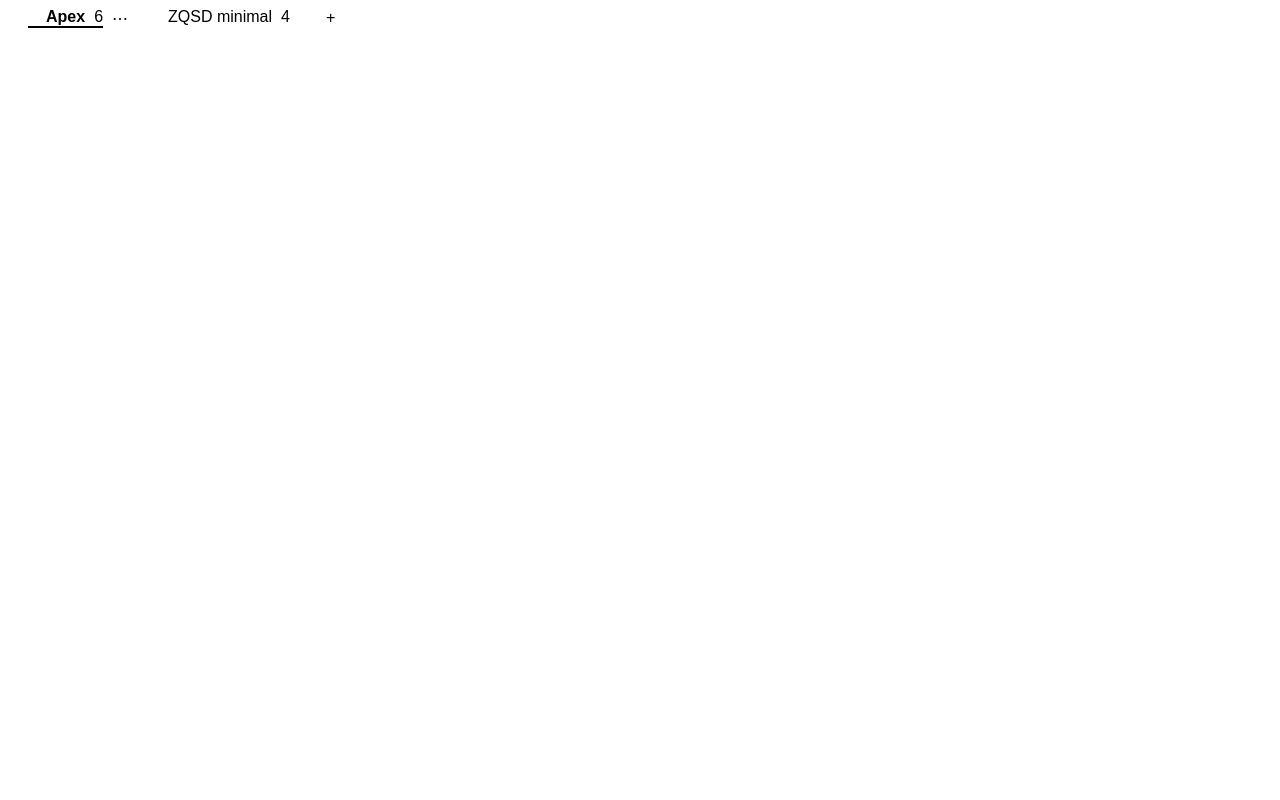
Test: renaming a profile › starts from the name it already has
What coordinates should you click on to do the following:
click the button "⋯"
I would click on:
 (124, 18)
Its box is [103, 8, 146, 28].
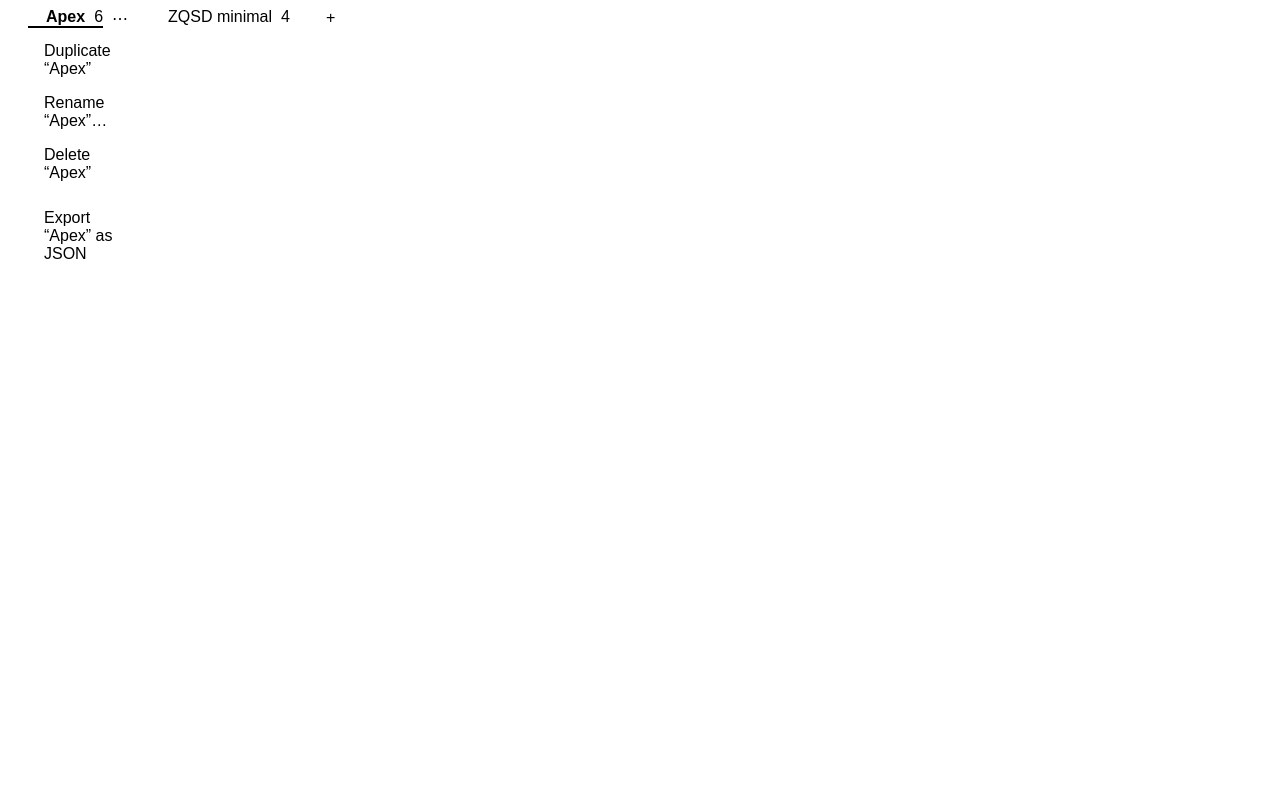
What coordinates should you click on to do the following:
click the button "Rename “Apex”…"
I would click on:
 (87, 112)
Its box is [34, 86, 140, 138].
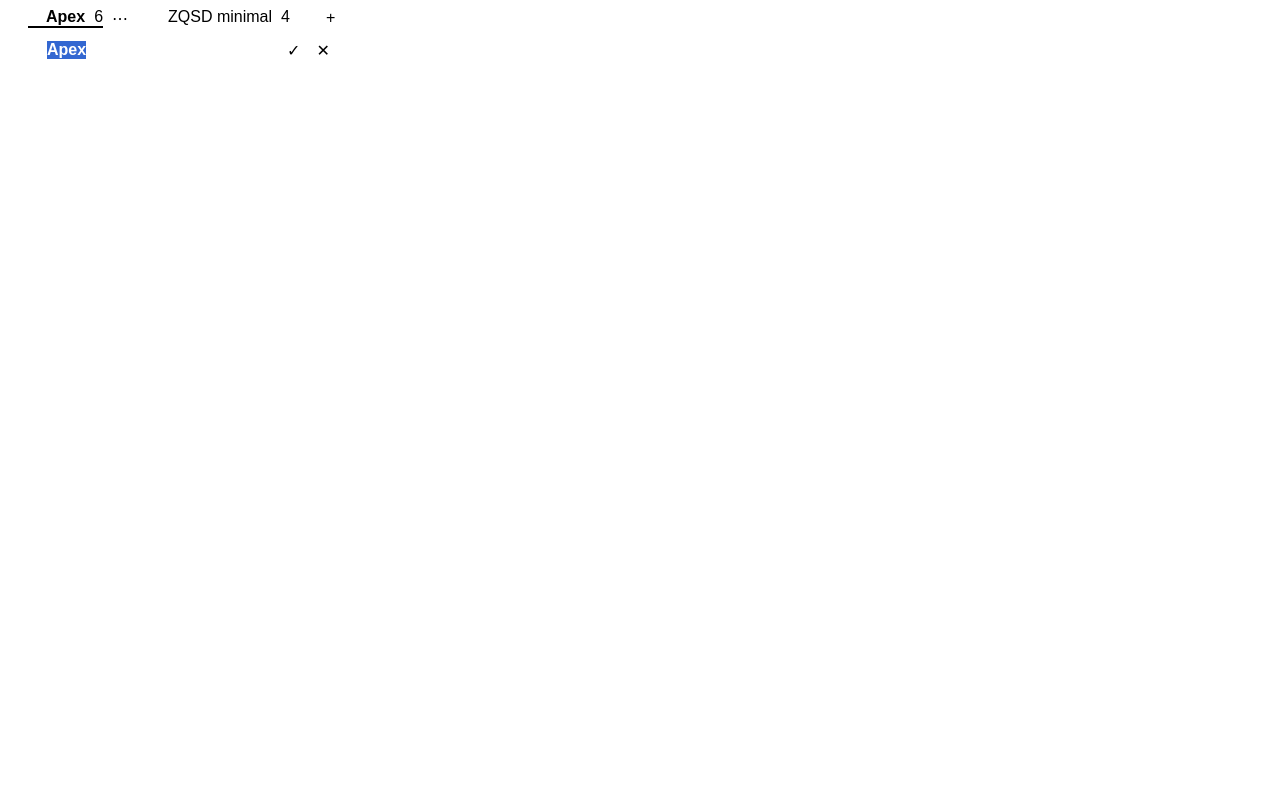
Check: the field named "Rename this profile" holds "Apex", box [38, 36, 275, 64]
